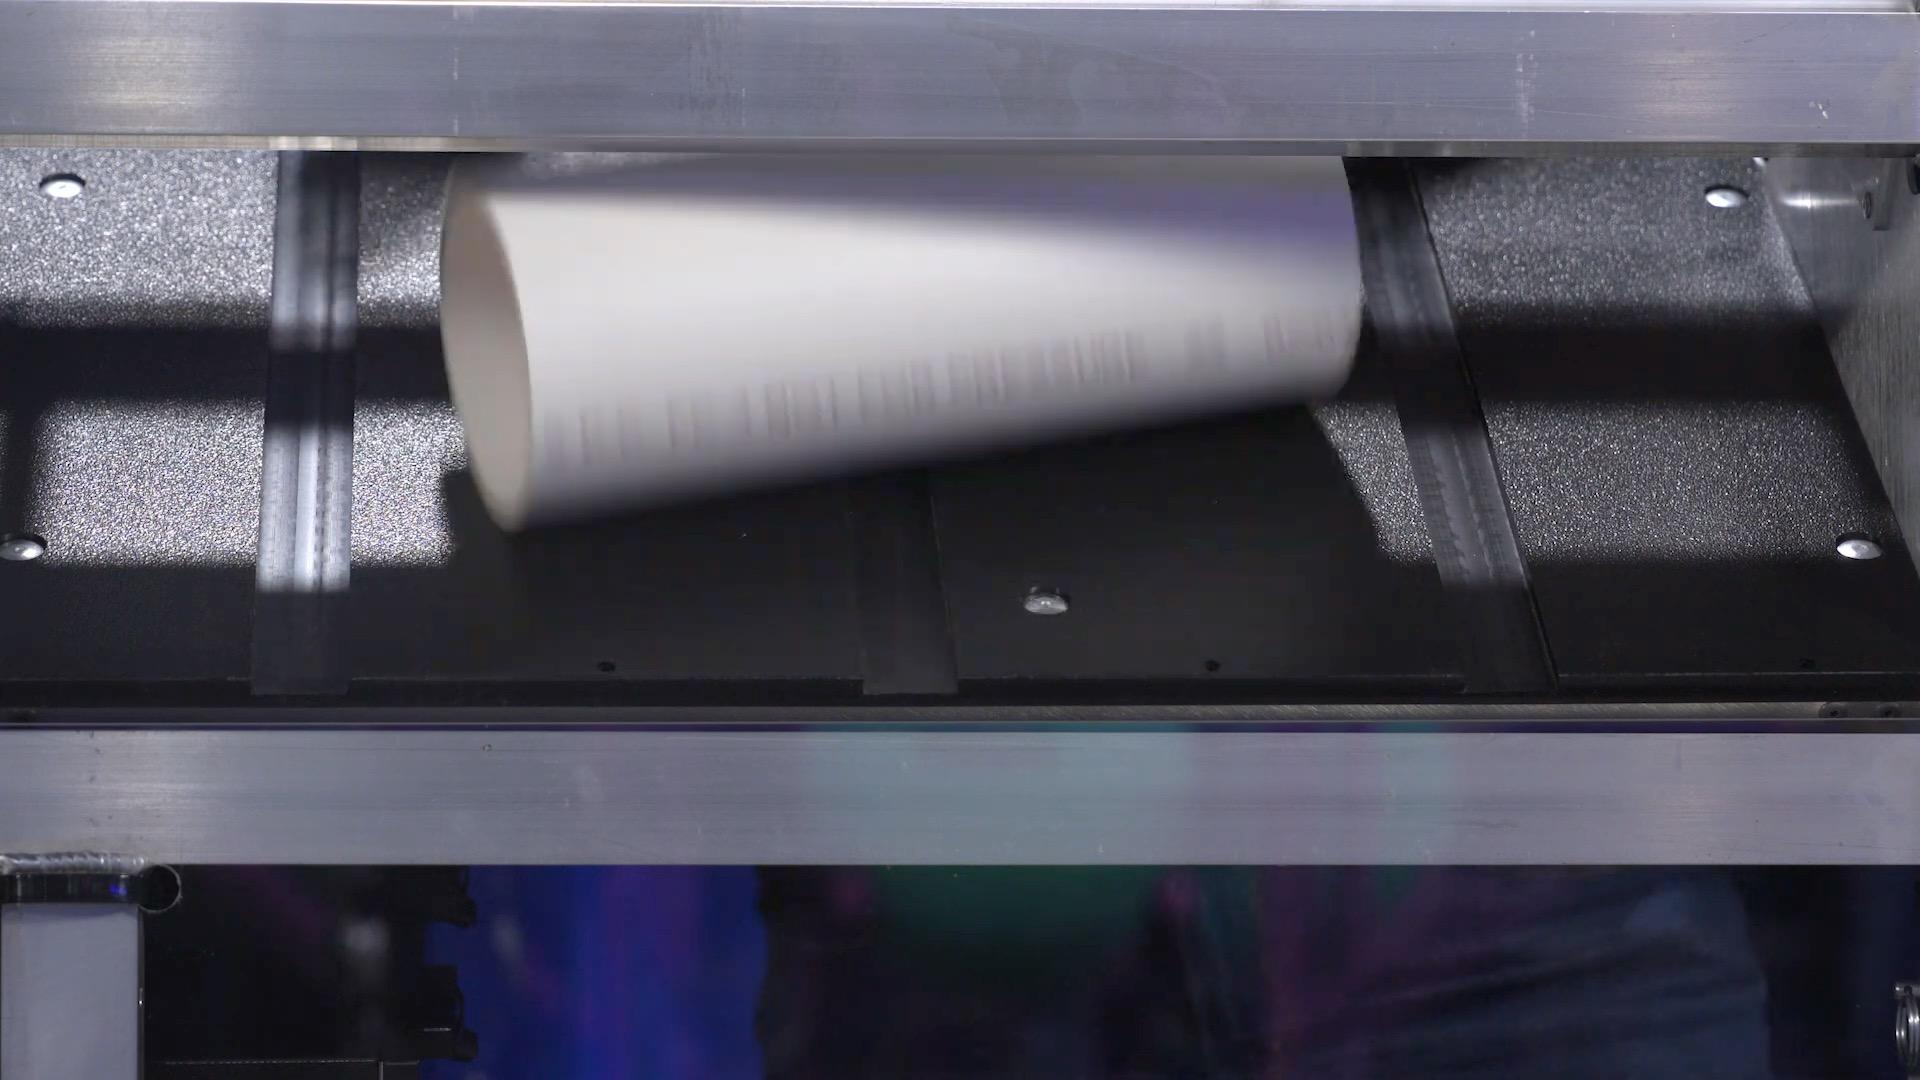CORAL: (438, 156, 1364, 534)
